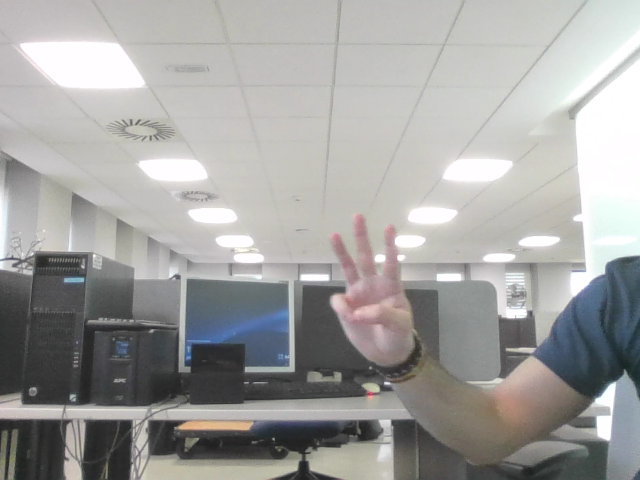3Dedos: (338, 227, 399, 336)
